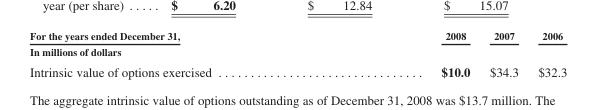table: (28, 29, 566, 78)
table column: (28, 29, 325, 78), (325, 29, 479, 78), (479, 29, 527, 78), (527, 29, 566, 78)
table column header: (28, 29, 566, 43)
table projected row header: (28, 43, 566, 60)
table row: (28, 60, 566, 78), (28, 43, 566, 60), (28, 29, 566, 43)
